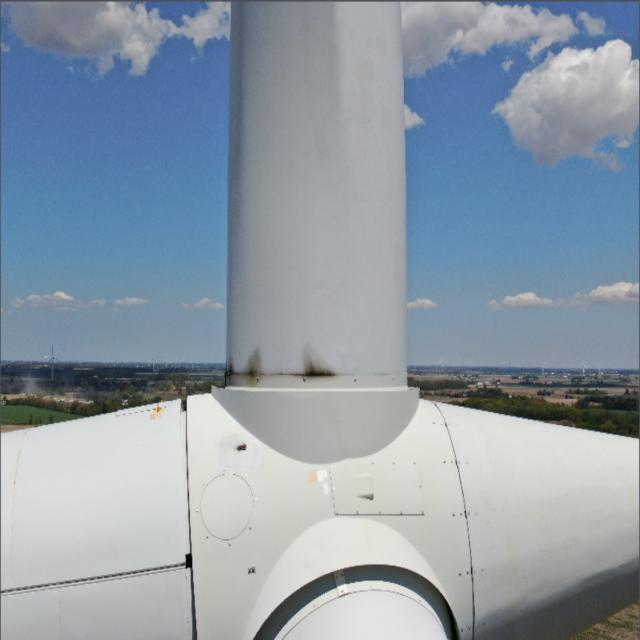Burn Mark: (300, 342, 338, 379), (242, 348, 263, 382)
